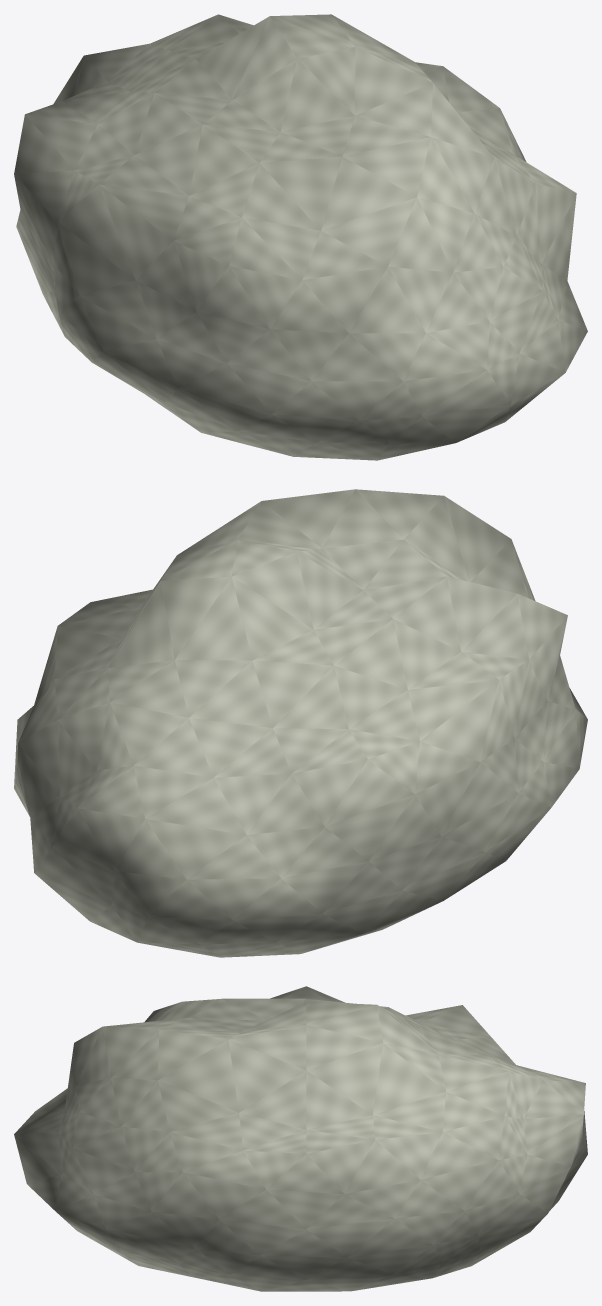
Rendered from coastal_boulder_b.glb.
3 views of the same model, one above another, from view 1: azimuth 30°, elevation 25°; view 2: azimuth 150°, elevation 25°; view 3: azimuth 270°, elevation 25° (orthographic). The views are drawn at different scales.
Visible parts, largest first — view 1: coastal_boulder_b_Rock; view 2: coastal_boulder_b_Rock; view 3: coastal_boulder_b_Rock.
Boxes of the visible parts, x1=… form: coastal_boulder_b_Rock: x1=14, y1=14, x2=587, y2=460; coastal_boulder_b_Rock: x1=14, y1=489, x2=587, y2=957; coastal_boulder_b_Rock: x1=14, y1=986, x2=587, y2=1291.
Size of the model in its own units: 1.72 by 1.2 by 2.52.
Materials: 1 (1 with a texture image).
